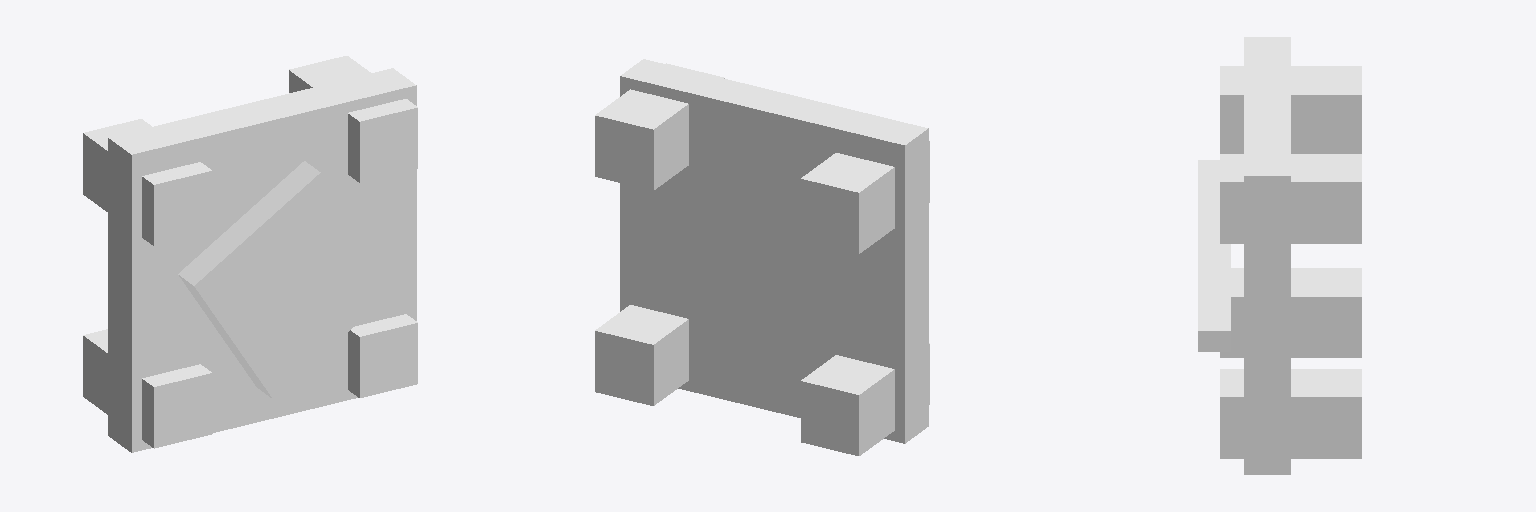
Rendered from market.obj.
3 renders of one model, left to right at view 1: azimuth 30°, elevation 25°; view 2: azimuth 150°, elevation 25°; view 3: azimuth 270°, elevation 25°, orthographic.
Parts seen in each view (by area): view 1: Object.2, Object.1; view 2: Object.2; view 3: Object.2, Object.1.
Boxes of the visible parts, box(x1,y1,x2,y2) form: Object.2: box(83, 56, 417, 452); Object.1: box(178, 161, 399, 398); Object.2: box(595, 59, 929, 455); Object.2: box(1220, 37, 1361, 474); Object.1: box(1198, 160, 1230, 351).
Size of the model in its own units: 40 by 40 by 19.91.